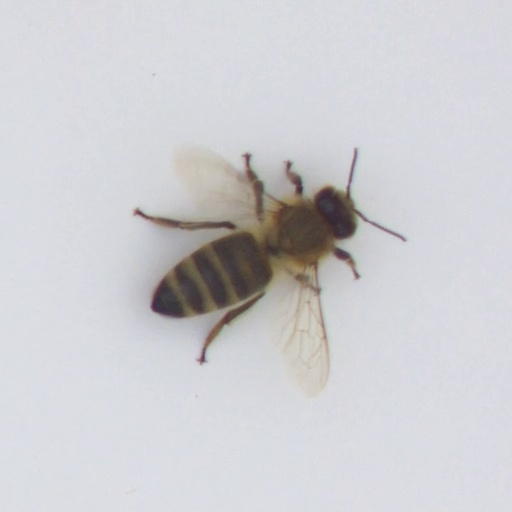Bee: (125, 178, 375, 335)
Thorax: (266, 199, 335, 267)
